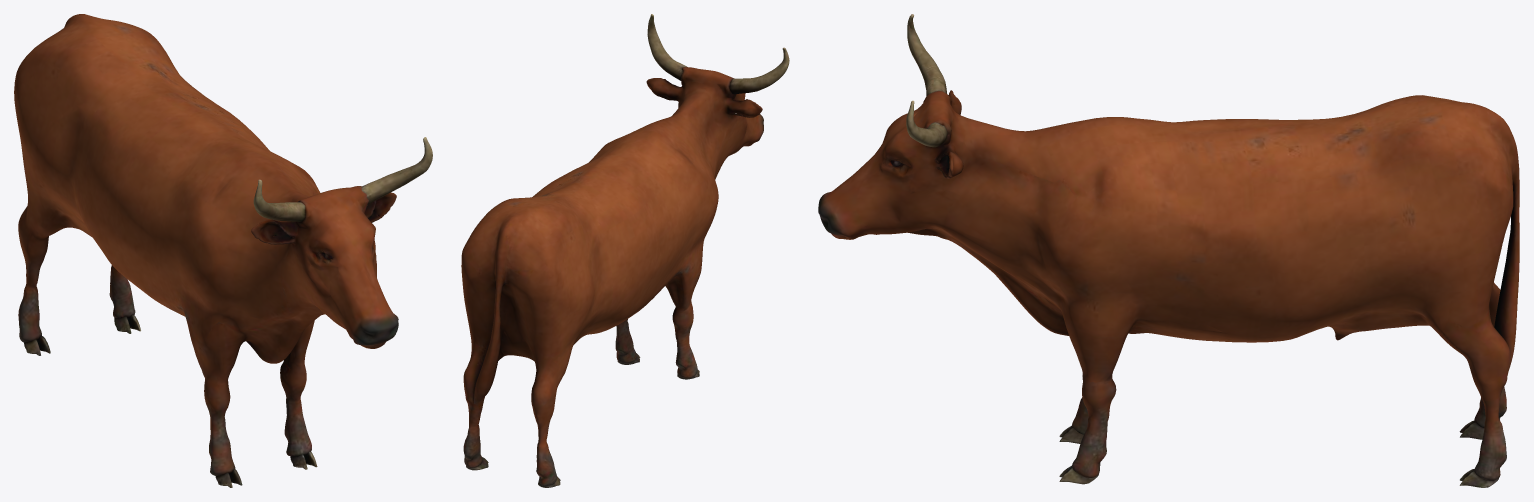
The model's file is MZ4250 - Ox_Red.glb.
3 views of the same model, side by side, from view 1: azimuth 30°, elevation 25°; view 2: azimuth 150°, elevation 25°; view 3: azimuth 270°, elevation 25° (orthographic). The views are drawn at different scales.
Visible parts, largest first — view 1: COW.001; view 2: COW.001; view 3: COW.001.
Boxes of the visible parts, x1=… form: COW.001: x1=14, y1=14, x2=432, y2=487; COW.001: x1=461, y1=14, x2=789, y2=487; COW.001: x1=818, y1=14, x2=1519, y2=487.
Size of the model in its own units: 0.4682 by 0.9338 by 1.47.
Materials: 1 (1 with a texture image).
